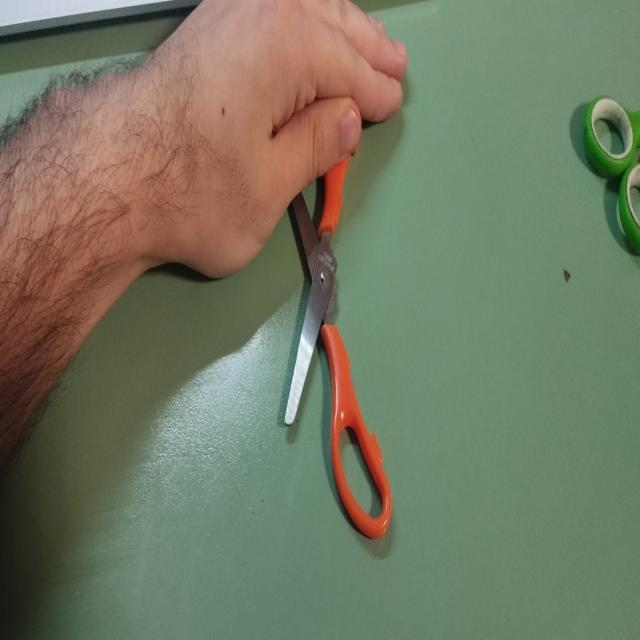tesoura: (255, 62, 400, 550)
